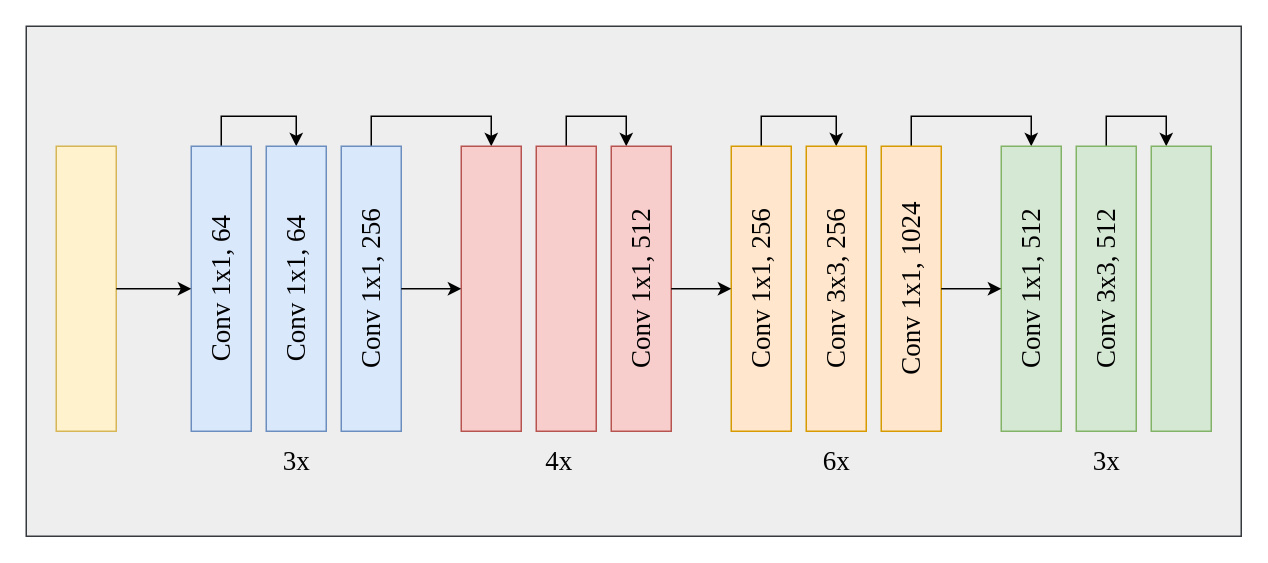
This 1268x563 diagram has some shape labels left out. The shapes that lost their labels are listed below. From the top down, each one's centre as x and y in pixels, then its label:
point 85,288: Conv 7x7, 64
point 490,288: Conv 1x1, 128
point 565,288: Conv 3x3, 128
point 1180,288: Conv 1x1, 2048
